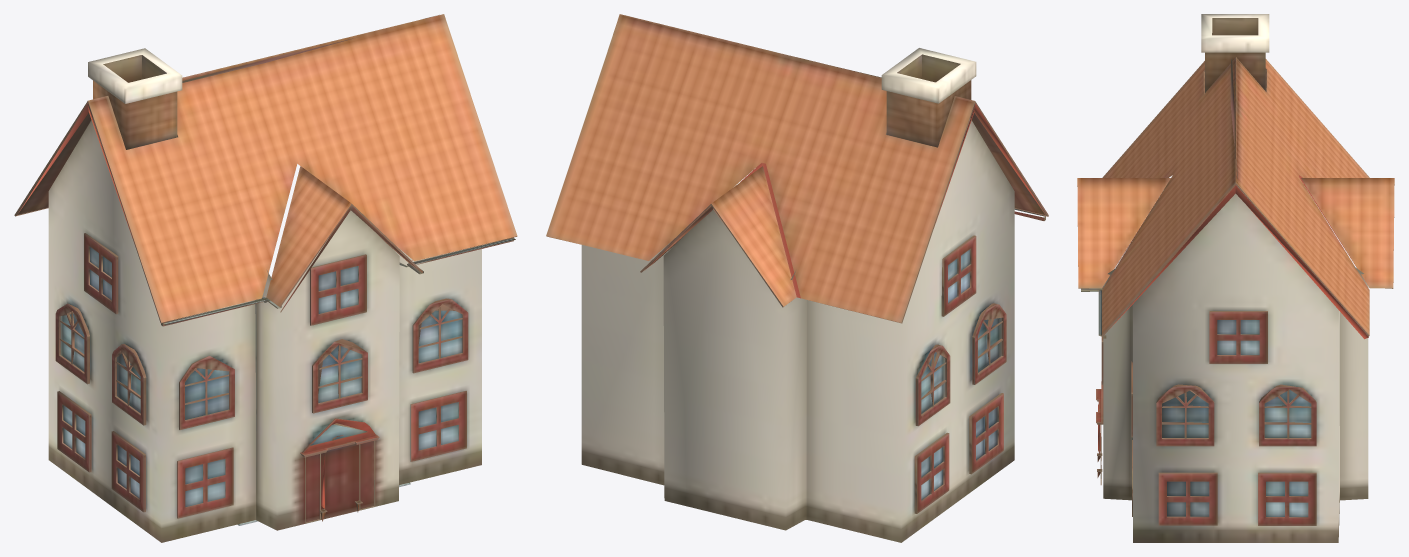
Rendered from House1.glb.
The picture shows the model from 3 angles, left to right: view 1: azimuth 30°, elevation 25°; view 2: azimuth 150°, elevation 25°; view 3: azimuth 270°, elevation 25°; orthographic projection. The views are drawn at different scales.
Parts seen in each view (by area): view 1: Obj3d66-9679732-5-387; view 2: Obj3d66-9679732-5-387; view 3: Obj3d66-9679732-5-387.
Part boxes in pixels (x1,y1,x2,y2): Obj3d66-9679732-5-387: (14, 14, 517, 542); Obj3d66-9679732-5-387: (546, 14, 1048, 542); Obj3d66-9679732-5-387: (1077, 14, 1394, 542).
Size of the model in its own units: 0.8901 by 1.02 by 0.7543.
4 materials, 4 textured.
